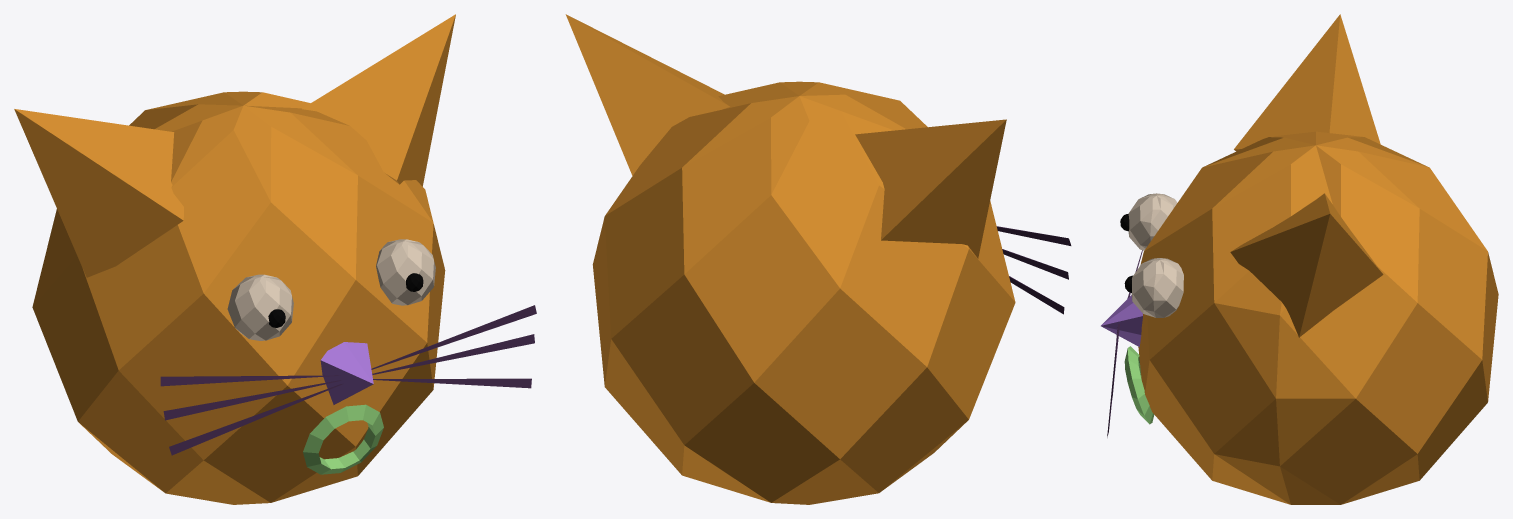
Rendered from catfirstcolors.fbx.
3 renders of one model, left to right at view 1: azimuth 30°, elevation 25°; view 2: azimuth 150°, elevation 25°; view 3: azimuth 270°, elevation 25°, orthographic. The views are drawn at different scales.
Visible parts, largest first — view 1: Sphere, Cone, Cone.001, Sphere.001, Sphere.002, Torus, Sphere.003, Cylinder.002, Cylinder.001, Cylinder, Cylinder.005, Cylinder.004 (+1 smaller); view 2: Sphere, Cone, Cone.001; view 3: Sphere, Cone.001, Cone, Sphere.002, Sphere.001, Sphere.003, Torus.
Part boxes in pixels (x1,y1,x2,y2): Sphere: (32, 91, 445, 504); Cone: (14, 109, 183, 277); Cone.001: (302, 14, 455, 186); Sphere.001: (227, 274, 293, 340); Sphere.002: (376, 239, 435, 305); Torus: (303, 404, 383, 474); Sphere.003: (320, 342, 373, 404); Cylinder.002: (169, 383, 343, 455); Cylinder.001: (163, 380, 341, 420); Cylinder: (160, 375, 340, 386); Cylinder.005: (371, 305, 536, 369); Cylinder.004: (372, 334, 534, 374); Sphere: (592, 81, 1015, 504); Cone: (855, 119, 1006, 258); Cone.001: (565, 14, 729, 175); Sphere: (1138, 131, 1498, 504); Cone.001: (1230, 193, 1383, 337); Cone: (1234, 14, 1380, 151); Sphere.002: (1131, 258, 1183, 317); Sphere.001: (1128, 193, 1177, 250); Sphere.003: (1101, 295, 1142, 346); Torus: (1124, 346, 1154, 424).
Bounding box in the file's own units: 238 × 221 × 207.
